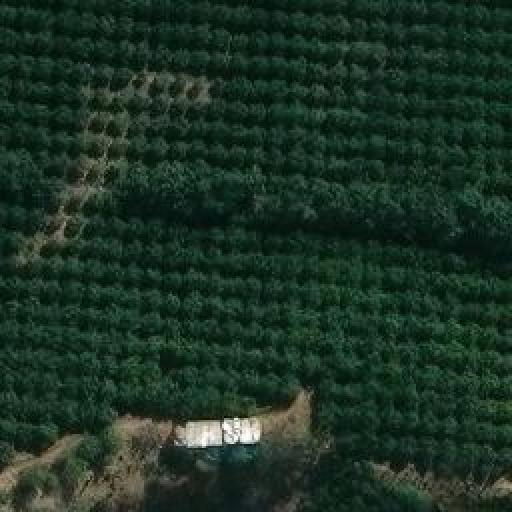manzanas: (164, 416, 263, 467)
